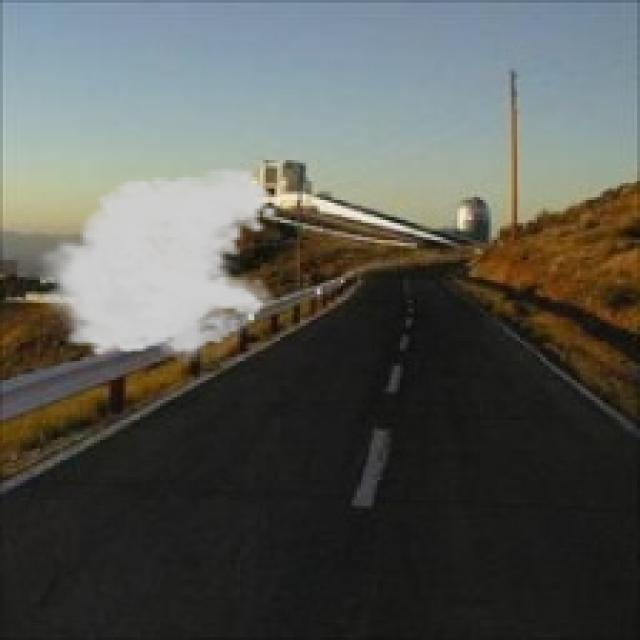smoke: (31, 165, 280, 368)
